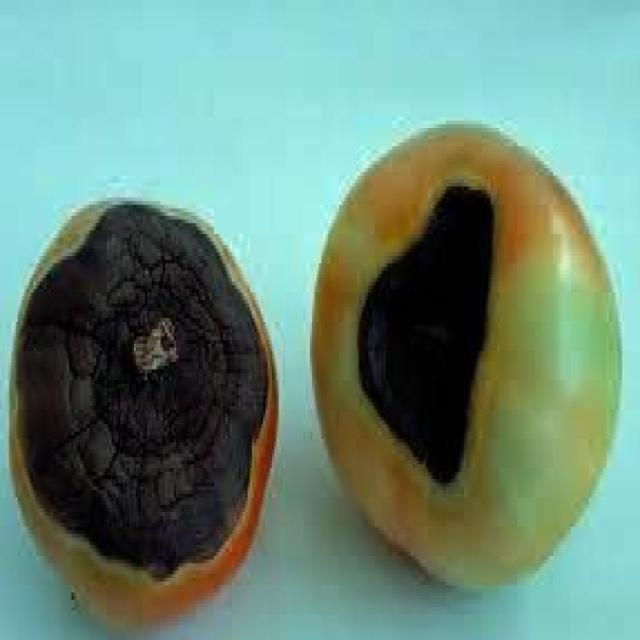Blossom End Rot Fruit: (99, 223, 299, 257)
